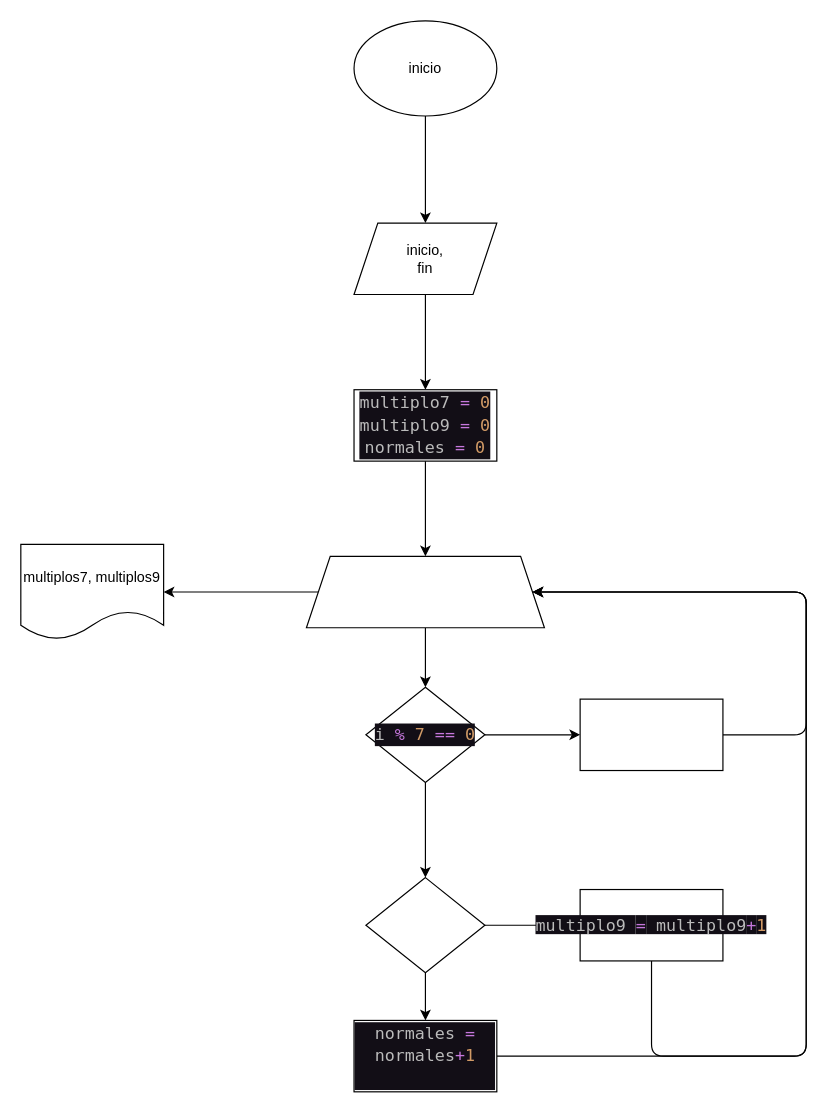
Some shapes in this 837 by 1113 pixel diagram are drawn without their labels. The box of each missing label's shape, as (x1, y1, x2, y2) in pixels:
for i in range (inicio,fin): (305, 555, 544, 628)
i % 9 == 0: (365, 876, 485, 973)
multiplo7 = multiplo7 + 1: (579, 698, 723, 771)
